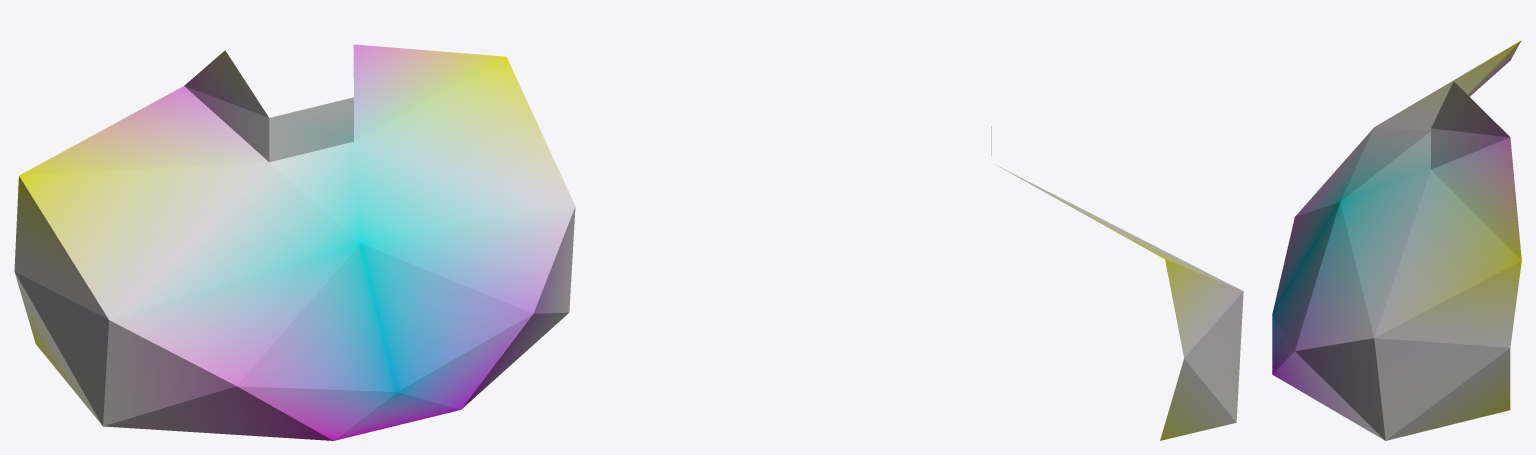
3 renders of one model, left to right at view 1: azimuth 30°, elevation 25°; view 2: azimuth 150°, elevation 25°; view 3: azimuth 270°, elevation 25°, orthographic. The views are drawn at different scales.
Parts seen in each view (by area): view 1: model_1159; view 2: model_1159; view 3: model_1159.
Part boxes in pixels (box(x1,y1,x2,y2)): model_1159: box(14, 44, 575, 440); model_1159: box(991, 126, 1243, 440); model_1159: box(1272, 40, 1521, 440).
Size of the model in its own units: 48 by 29 by 22.
